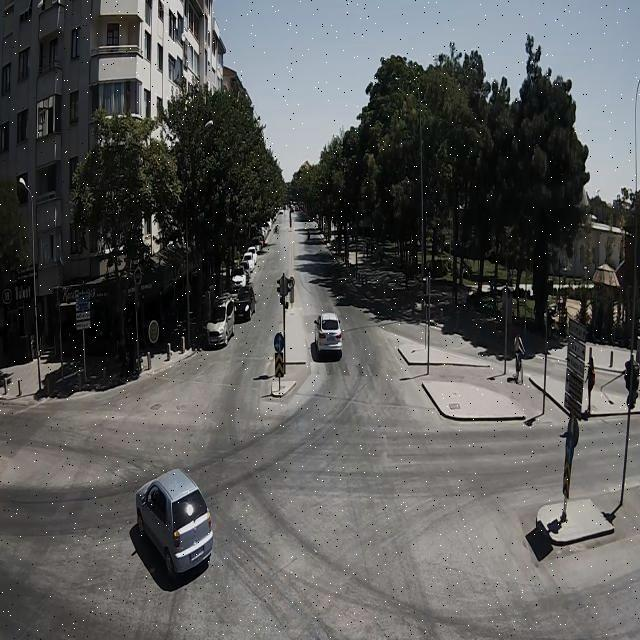Car: (118, 465, 220, 576), (307, 293, 357, 376)
